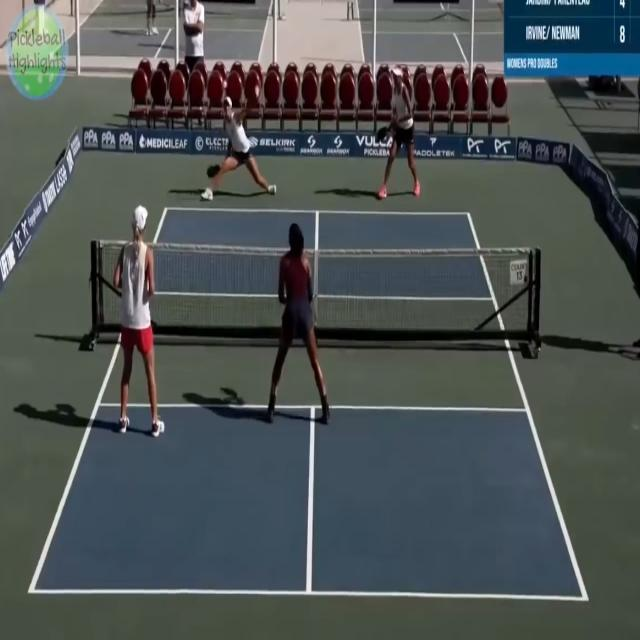Court: (31, 208, 585, 597)
